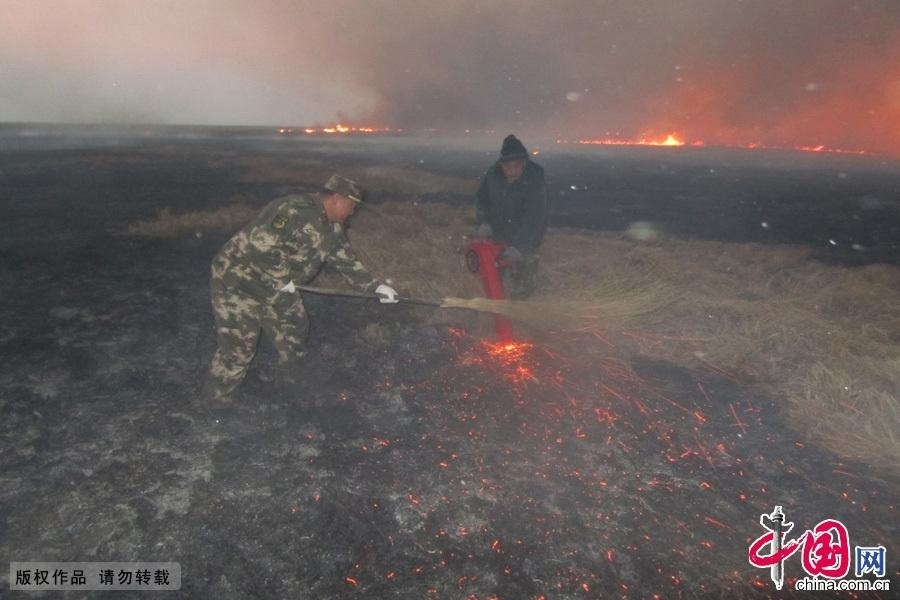fire: (460, 330, 539, 380), (278, 116, 389, 138)
